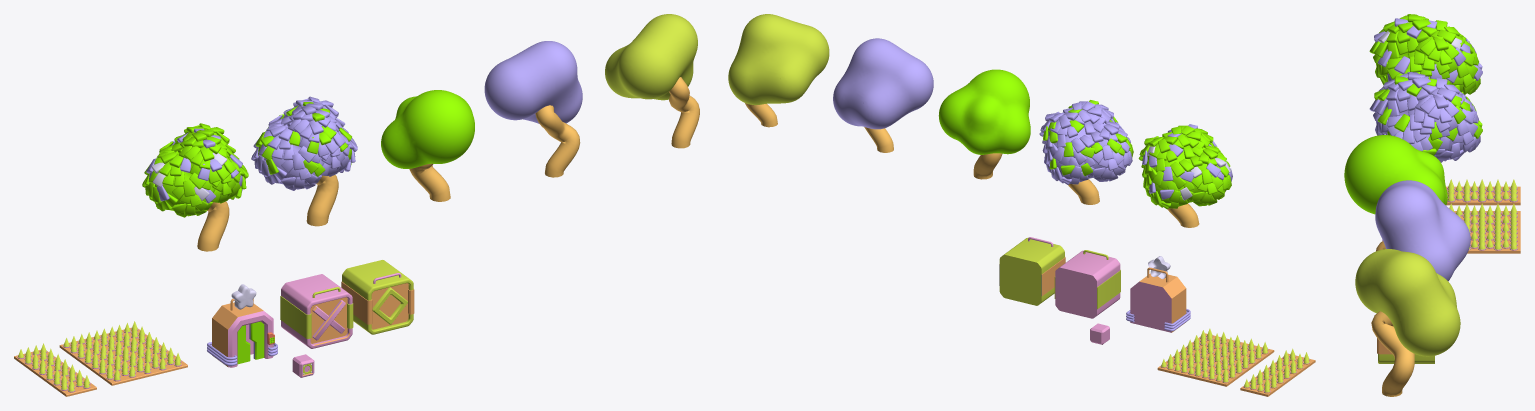
The model's file is ITEM_A.fbx.
3 views of the same model, side by side, from view 1: azimuth 30°, elevation 25°; view 2: azimuth 150°, elevation 25°; view 3: azimuth 270°, elevation 25° (orthographic). The views are drawn at different scales.
Parts seen in each view (by area): view 1: ITEM_TREE_B, ITEM_TREE_A, ITEM_TREE_D, ITEM_TREE_E, ITEM_TREE_C, ITEM_SPIKE_TRAP_LONG, ITEM_BOX_A, ITEM_BOX_B, ITEM_DOOR, ITEM_SPIKE_TRAP_SHORT; view 2: ITEM_TREE_E, ITEM_TREE_D, ITEM_TREE_C, ITEM_TREE_B, ITEM_TREE_A, ITEM_SPIKE_TRAP_LONG, ITEM_BOX_A, ITEM_BOX_B, ITEM_DOOR, ITEM_SPIKE_TRAP_SHORT; view 3: ITEM_TREE_E, ITEM_TREE_B, ITEM_TREE_D, ITEM_TREE_A, ITEM_TREE_C, ITEM_SPIKE_TRAP_LONG, ITEM_SPIKE_TRAP_SHORT, ITEM_BOX_B.
Boxes of the visible parts, x1,y1,x2,y2 form: ITEM_TREE_B: [251, 96, 357, 226]; ITEM_TREE_A: [142, 123, 248, 251]; ITEM_TREE_D: [484, 41, 582, 177]; ITEM_TREE_E: [605, 14, 699, 148]; ITEM_TREE_C: [381, 90, 474, 201]; ITEM_SPIKE_TRAP_LONG: [59, 321, 187, 385]; ITEM_BOX_A: [280, 274, 353, 348]; ITEM_BOX_B: [341, 260, 414, 334]; ITEM_DOOR: [207, 284, 277, 367]; ITEM_SPIKE_TRAP_SHORT: [14, 343, 96, 396]; ITEM_TREE_E: [728, 14, 829, 127]; ITEM_TREE_D: [833, 38, 933, 152]; ITEM_TREE_C: [938, 69, 1030, 179]; ITEM_TREE_B: [1039, 100, 1133, 204]; ITEM_TREE_A: [1138, 124, 1232, 227]; ITEM_SPIKE_TRAP_LONG: [1157, 328, 1274, 386]; ITEM_BOX_A: [1054, 250, 1120, 318]; ITEM_BOX_B: [999, 237, 1065, 305]; ITEM_DOOR: [1126, 256, 1190, 332]; ITEM_SPIKE_TRAP_SHORT: [1240, 348, 1315, 396]; ITEM_TREE_E: [1355, 249, 1460, 396]; ITEM_TREE_B: [1369, 72, 1482, 162]; ITEM_TREE_D: [1375, 180, 1470, 281]; ITEM_TREE_A: [1369, 14, 1482, 94]; ITEM_TREE_C: [1344, 135, 1447, 214]; ITEM_SPIKE_TRAP_LONG: [1449, 203, 1520, 253]; ITEM_SPIKE_TRAP_SHORT: [1446, 179, 1520, 205]; ITEM_BOX_B: [1377, 338, 1434, 363].
Size of what is drawn, in the model's own units: 4162 by 1703 by 924.
